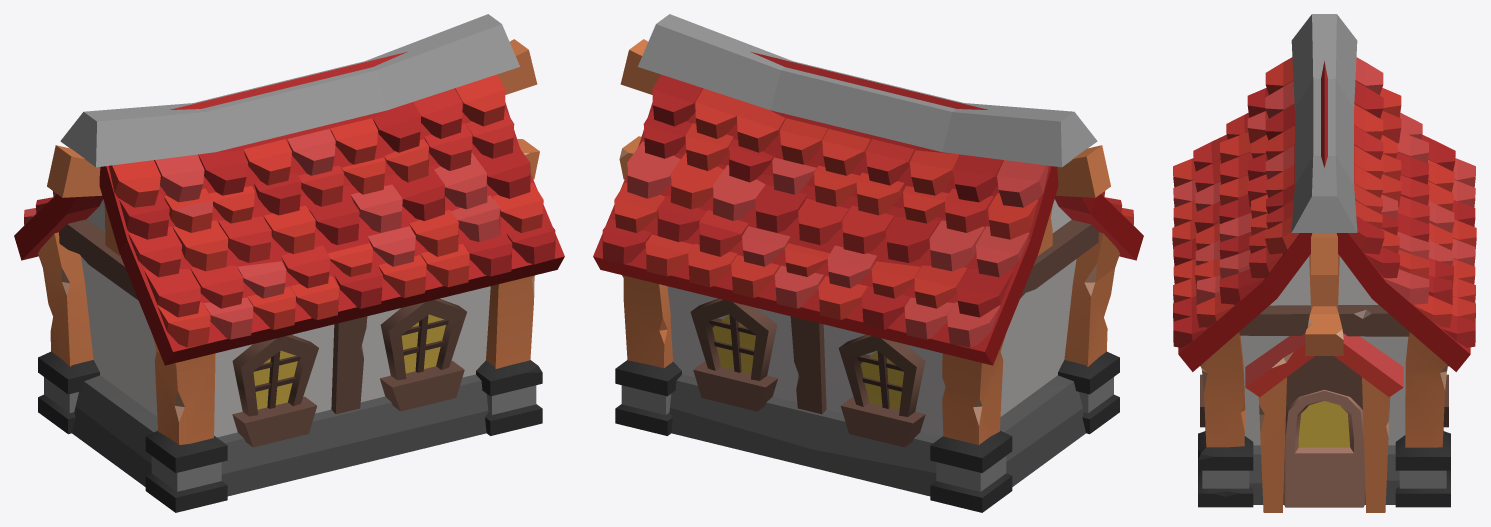
File: sn_house_c.glb
The picture shows the model from 3 angles, left to right: view 1: azimuth 30°, elevation 25°; view 2: azimuth 150°, elevation 25°; view 3: azimuth 270°, elevation 25°; orthographic projection. The views are drawn at different scales.
Parts seen in each view (by area): view 1: sn_house_c; view 2: sn_house_c; view 3: sn_house_c.
Boxes of the visible parts, box(x1,y1,x2,y2) form: sn_house_c: box(14, 14, 564, 512); sn_house_c: box(593, 14, 1143, 512); sn_house_c: box(1172, 14, 1476, 512).
Bounding box in the file's own units: 8.1 × 5.7 × 4.89.
